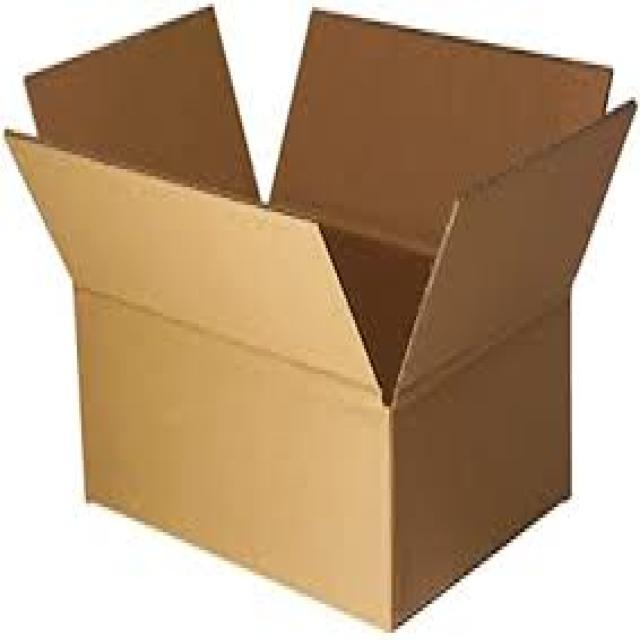cardboard: (3, 4, 636, 626)
